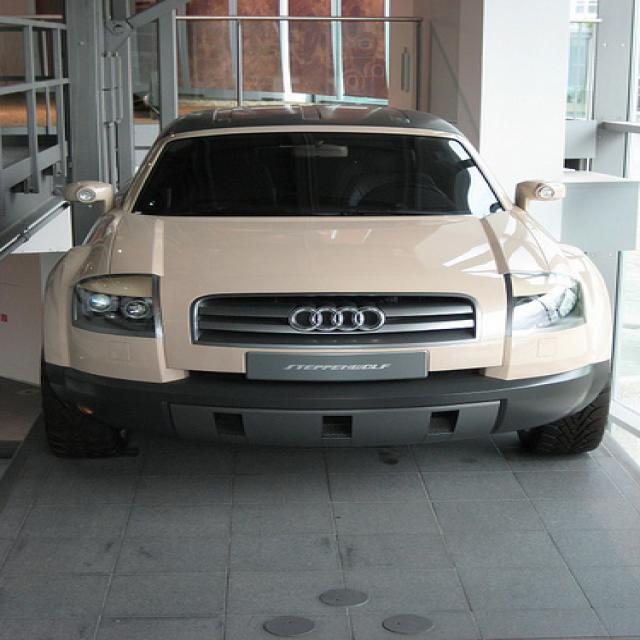Car: (20, 96, 617, 472)
